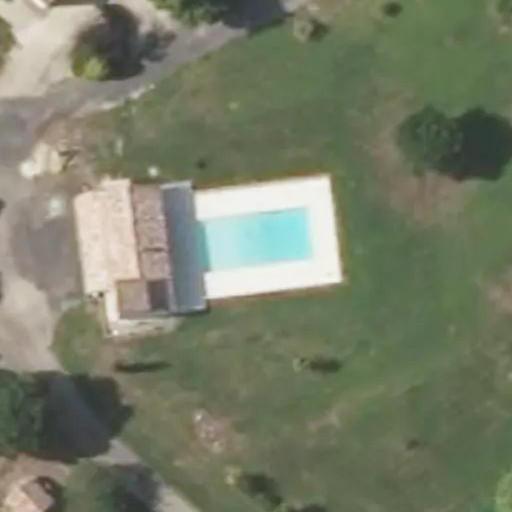pool: (195, 217, 316, 266)
